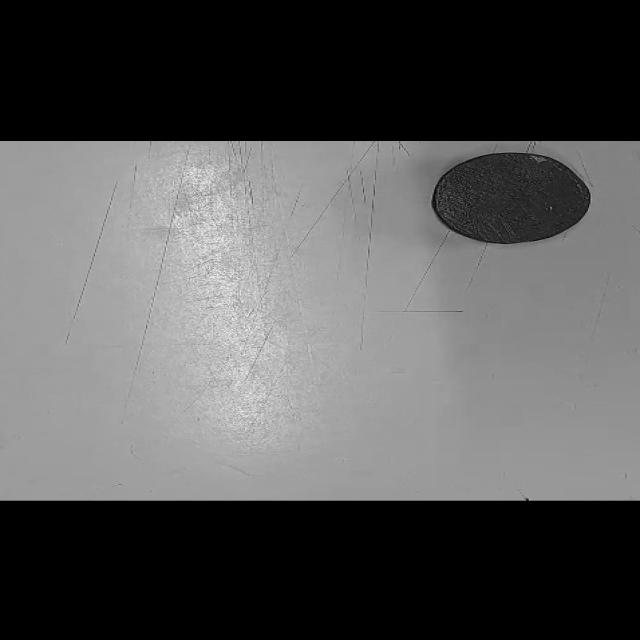rcircle: (432, 153, 590, 244)
